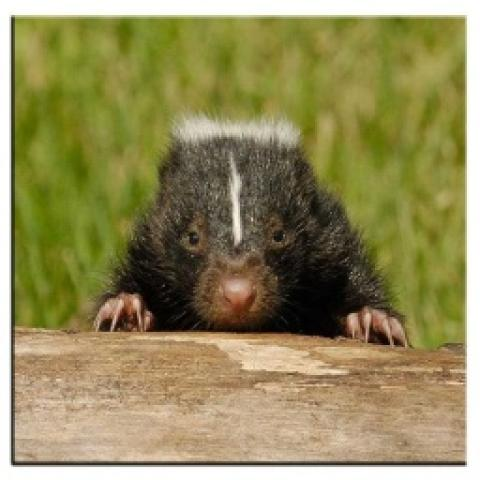small_animal: (90, 110, 411, 348)
